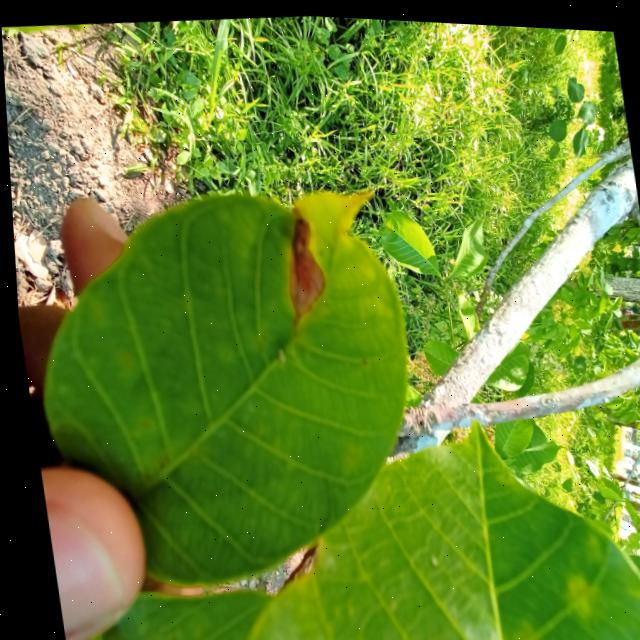Leaf-Blight: (274, 209, 325, 321)
